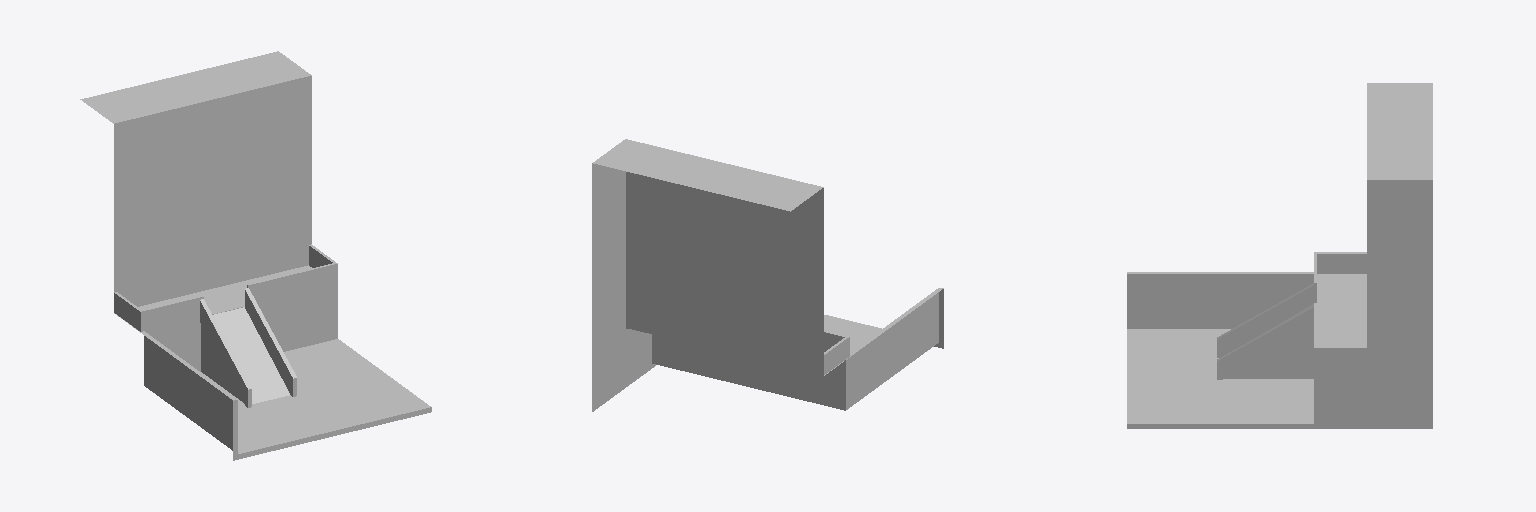
File: hall_collisor.obj
The picture shows the model from 3 angles: view 1: azimuth 30°, elevation 25°; view 2: azimuth 150°, elevation 25°; view 3: azimuth 270°, elevation 25°; orthographic projection.
Visible parts, largest first — view 1: Plane.001; view 2: Plane.001; view 3: Plane.001.
Boxes of the visible parts, <box> form: Plane.001: <box>80,51,431,460</box>; Plane.001: <box>592,139,943,411</box>; Plane.001: <box>1127,83,1432,428</box>.
Size of the model in its own units: 4.06 by 4.87 by 5.43.